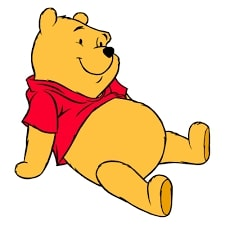Winnie: (23, 6, 134, 140)
